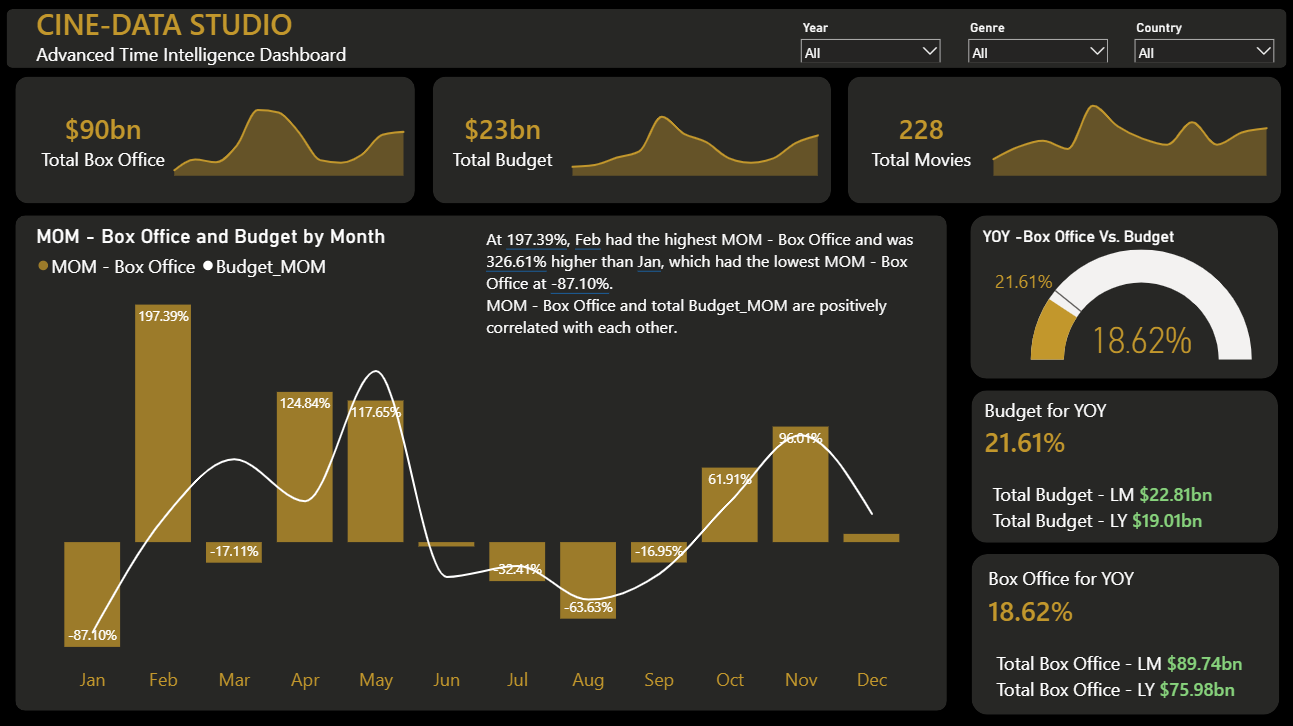

What the dashboard file says about the page in this screenshot:
{"tool":"powerbi","page":{"name":"OverView","canvas":[1920,1080],"ordinal":0},"visuals":[{"type":"shape","box":[10.7,14.3,1896.4,87.5],"z":0},{"type":"shape","box":[24,114,592.1,188],"z":1000},{"type":"shape","box":[1440.3,822.2,456.1,238.1],"z":2000},{"type":"shape","box":[1258.3,114,642.1,188],"z":3000},{"type":"textbox","box":[50,2,542.1,112],"z":4000},{"type":"slicer","fields":{"Values":["Movies.Country"]},"box":[1671.4,25.8,226.8,67.9],"z":5000},{"type":"slicer","fields":{"Values":["Movies.Genre"]},"box":[1425,25.8,226.8,67.9],"z":6000},{"type":"slicer","fields":{"Values":["Date.Year"]},"box":[1178.6,25.8,226.8,67.9],"z":7000},{"type":"shape","box":[642.1,114,590.1,188],"z":8000},{"type":"shape","box":[1438.3,320.1,456.1,242.1],"z":9000},{"type":"shape","box":[1440.3,580.1,454.1,226],"z":10000},{"type":"cardVisual","fields":{"Data":["BoxOffice_Measuress.Total Movies"]},"box":[1258.3,114,218,188],"z":11000},{"type":"cardVisual","fields":{"Data":["BoxOffice_Measuress.Total Budget"]},"box":[636.1,114,218,188],"z":12000},{"type":"cardVisual","fields":{"Data":["BoxOffice_Measuress.Total Box Office"]},"box":[24,114,260.1,188],"z":13000},{"type":"stackedAreaChart","fields":{"Y":["BoxOffice_Measuress.Total Box Office"],"Category":["Date.Month"]},"box":[242.1,126,374.1,142],"z":14000},{"type":"stackedAreaChart","fields":{"Y":["BoxOffice_Measuress.Total Budget"],"Category":["Date.Month"]},"box":[832.2,126,400.1,142],"z":15000},{"type":"cardVisual","fields":{"Data":["BoxOffice_Measuress.YOY - Box Office"]},"box":[1454.3,830.2,454.1,224],"z":16000},{"type":"cardVisual","fields":{"Data":["Budget_Measures.Budget_YOY"]},"box":[1448.3,580.1,454.1,224],"z":17000},{"type":"stackedAreaChart","fields":{"Category":["Date.Month"],"Y":["BoxOffice_Measuress.Total Movies"]},"box":[1454.3,126,444.1,142],"z":18000},{"type":"gauge","title":"YOY -Box Office Vs. Budget","fields":{"Y":["BoxOffice_Measuress.YOY - Box Office"],"TargetValue":["Budget_Measures.Budget_YOY"]},"box":[1452.3,334.1,426.1,206],"z":19000},{"type":"shape","box":[24,320.1,1380.3,734.2],"z":20000},{"type":"lineClusteredColumnComboChart","title":"MOM - Box Office and Budget by Month","fields":{"Category":["Date.Month"],"Y":["BoxOffice_Measuress.MOM - Box Office"],"Y2":["Budget_Measures.Budget_MOM"]},"box":[50,334.1,1332.3,704.1],"z":21000},{"type":"textbox","box":[716.2,334.1,666.1,174],"z":22000}]}

Visuals, with their boxes in screenshot pixels (x1, y1, x2, y2), scaled from the page's 1920x1080 canvas onto the 1293x726 screenshot:
shape: [7,10,1284,68]
shape: [16,77,415,203]
shape: [970,553,1277,713]
shape: [847,77,1280,203]
textbox: [34,1,399,77]
slicer - Movies.Country: [1126,17,1278,63]
slicer - Movies.Genre: [960,17,1112,63]
slicer - Date.Year: [794,17,946,63]
shape: [432,77,830,203]
shape: [969,215,1276,378]
shape: [970,390,1276,542]
cardVisual - BoxOffice_Measuress.Total Movies: [847,77,994,203]
cardVisual - BoxOffice_Measuress.Total Budget: [428,77,575,203]
cardVisual - BoxOffice_Measuress.Total Box Office: [16,77,191,203]
stackedAreaChart - BoxOffice_Measuress.Total Box Office x Date.Month: [163,85,415,180]
stackedAreaChart - BoxOffice_Measuress.Total Budget x Date.Month: [560,85,830,180]
cardVisual - BoxOffice_Measuress.YOY - Box Office: [979,558,1285,709]
cardVisual - Budget_Measures.Budget_YOY: [975,390,1281,541]
stackedAreaChart - Date.Month x BoxOffice_Measuress.Total Movies: [979,85,1278,180]
"YOY -Box Office Vs. Budget" gauge: [978,225,1265,363]
shape: [16,215,946,709]
"MOM - Box Office and Budget by Month" lineClusteredColumnComboChart: [34,225,931,698]
textbox: [482,225,931,342]
